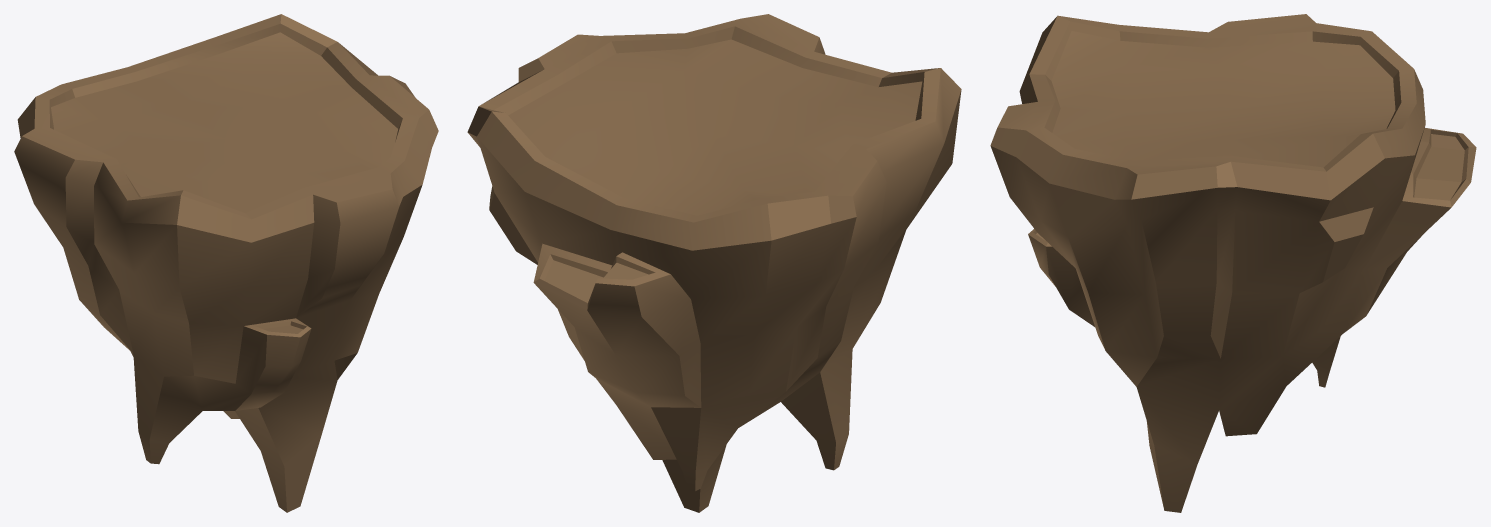
File: island_small.fbx
3 renders of one model, left to right at view 1: azimuth 30°, elevation 25°; view 2: azimuth 150°, elevation 25°; view 3: azimuth 270°, elevation 25°, orthographic. The views are drawn at different scales.
Visible parts, largest first — view 1: island_small; view 2: island_small; view 3: island_small.
Boxes of the visible parts, left/top/right/bottom form: island_small: left=14, top=14, right=438, bottom=512; island_small: left=467, top=14, right=961, bottom=512; island_small: left=990, top=14, right=1476, bottom=512.
Size of the model in its own units: 286 by 317 by 332.
